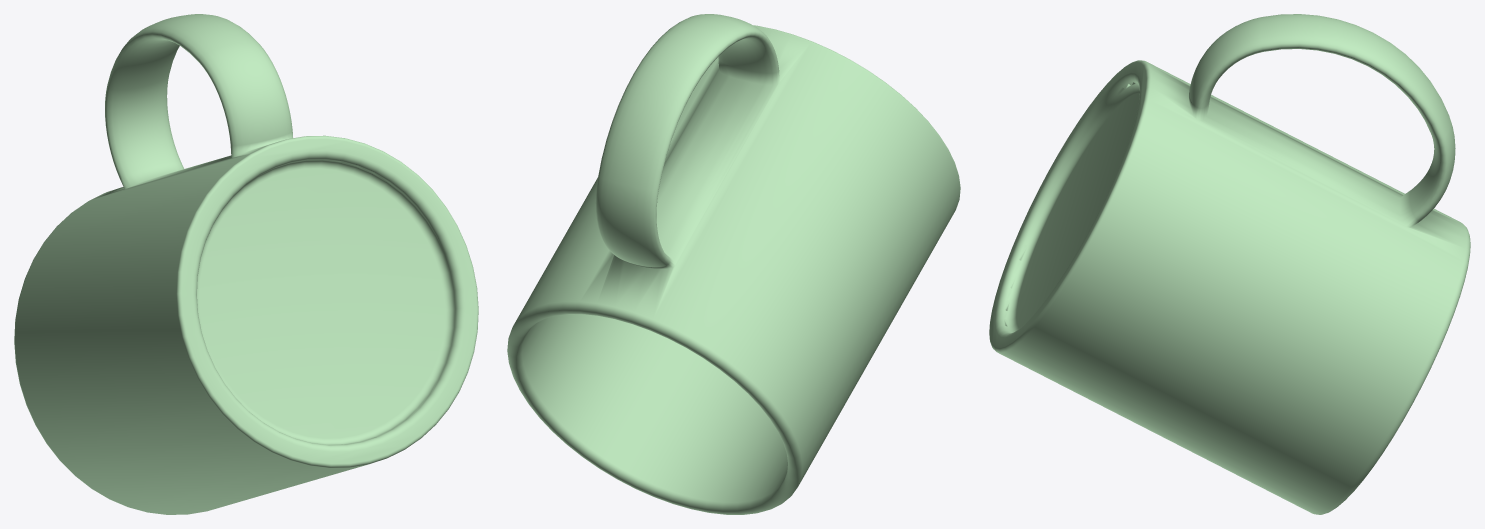
Rendered from mug1_0.dae.
3 renders of one model, left to right at view 1: azimuth 30°, elevation 25°; view 2: azimuth 150°, elevation 25°; view 3: azimuth 270°, elevation 25°, orthographic. The views are drawn at different scales.
Parts seen in each view (by area): view 1: mug1_019; view 2: mug1_019; view 3: mug1_019.
Boxes of the visible parts, left/top/right/bottom form: mug1_019: left=14, top=14, right=478, bottom=514; mug1_019: left=507, top=14, right=960, bottom=514; mug1_019: left=989, top=14, right=1470, bottom=514.
Bounding box in the file's own units: 0.1633 × 0.2405 × 0.2623.
